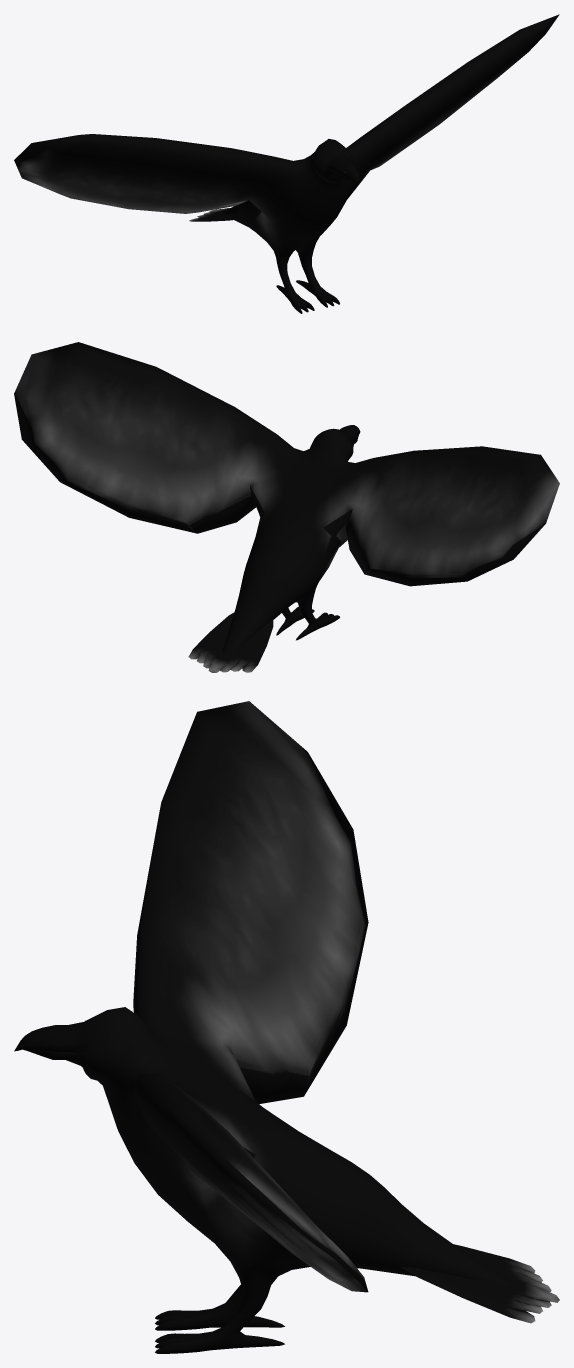
File: corvo.fbx
The picture shows the model from 3 angles, top to bottom: view 1: azimuth 30°, elevation 25°; view 2: azimuth 150°, elevation 25°; view 3: azimuth 270°, elevation 25°; orthographic projection. The views are drawn at different scales.
Parts seen in each view (by area): view 1: corvo.001; view 2: corvo.001; view 3: corvo.001.
Boxes of the visible parts, <box> form: corvo.001: <box>14,14,559,313</box>; corvo.001: <box>14,342,559,672</box>; corvo.001: <box>14,701,559,1353</box>.
Size of the model in its own units: 150 by 60 by 71.64.
Materials: 1 (1 with a texture image).
